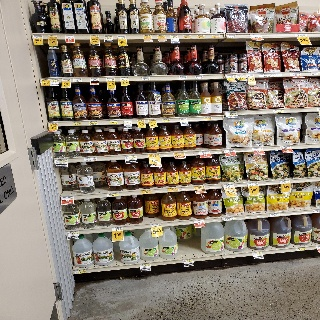All PRICE TAGS: (112, 226, 123, 231), (68, 230, 79, 235), (108, 192, 119, 197), (84, 157, 97, 161), (55, 159, 68, 163), (140, 263, 150, 268), (151, 223, 161, 228), (168, 187, 178, 192), (62, 196, 74, 200), (125, 155, 137, 159), (295, 33, 307, 37), (273, 109, 285, 113), (74, 270, 86, 274), (223, 184, 235, 188), (259, 73, 271, 77), (250, 34, 262, 38), (33, 34, 42, 39), (194, 186, 205, 190), (290, 73, 301, 77), (248, 182, 259, 186), (224, 149, 235, 153), (271, 73, 282, 77), (194, 219, 204, 223), (141, 190, 151, 194), (280, 180, 290, 184), (269, 213, 279, 217), (148, 154, 160, 157), (136, 119, 145, 123), (110, 120, 119, 124), (120, 77, 129, 81), (90, 77, 99, 81), (297, 247, 306, 251), (49, 122, 58, 126), (106, 77, 115, 81), (41, 78, 50, 82), (228, 34, 237, 38), (48, 35, 57, 39), (65, 35, 74, 39), (104, 35, 113, 39), (212, 34, 221, 38), (199, 151, 210, 154), (173, 152, 184, 155), (280, 146, 291, 149), (252, 148, 263, 151), (226, 112, 237, 115), (162, 118, 170, 122), (195, 75, 203, 79), (179, 75, 187, 79), (142, 76, 150, 80), (246, 74, 254, 78), (236, 74, 244, 78), (226, 74, 234, 78), (118, 35, 126, 39), (170, 34, 178, 38), (183, 34, 191, 38), (197, 34, 205, 38), (51, 78, 59, 82), (62, 78, 70, 82), (74, 78, 82, 82), (184, 259, 194, 262), (224, 217, 234, 220), (204, 116, 211, 120), (313, 209, 320, 213), (148, 119, 157, 122), (123, 120, 132, 123), (253, 252, 262, 255), (91, 35, 100, 38), (89, 121, 97, 124), (73, 121, 81, 124), (144, 35, 152, 38), (157, 35, 165, 38), (180, 118, 187, 121), (311, 72, 318, 75)
